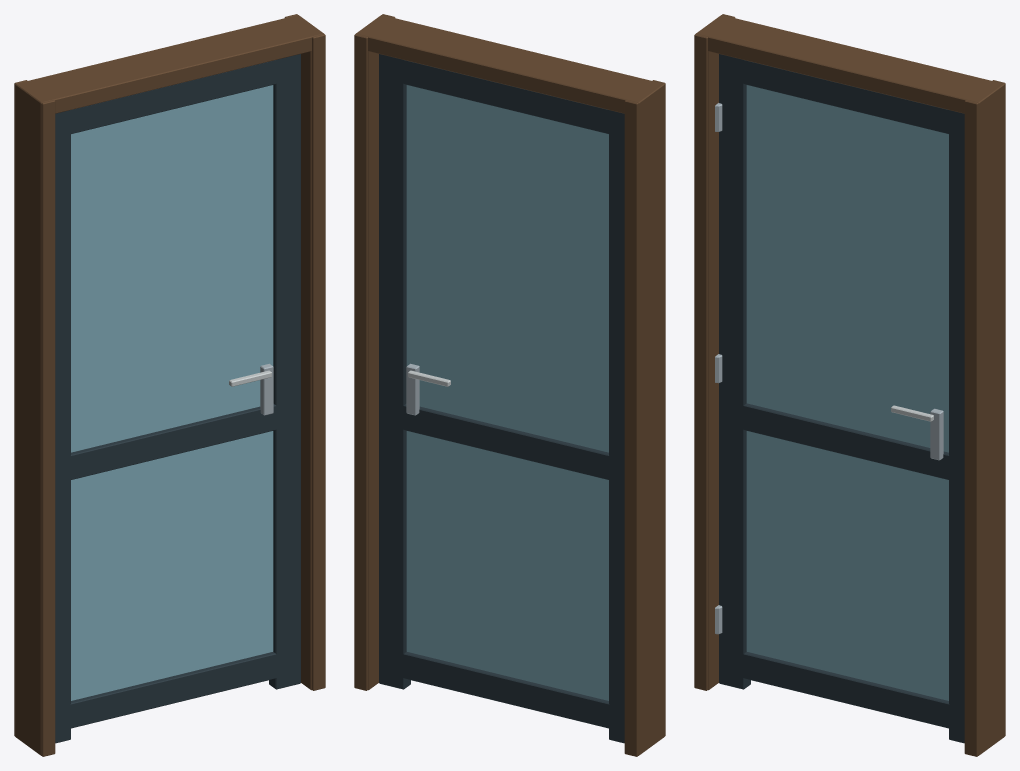
File: b21_door_glazed_entry.glb
The picture shows the model from 3 angles, left to right: view 1: azimuth 30°, elevation 25°; view 2: azimuth 150°, elevation 25°; view 3: azimuth 330°, elevation 25°; orthographic projection.
Visible parts, largest first — view 1: b21_door_glazed_entry; view 2: b21_door_glazed_entry; view 3: b21_door_glazed_entry.
Part boxes in pixels (x1,y1,x2,y2): b21_door_glazed_entry: (14, 14, 325, 756); b21_door_glazed_entry: (354, 14, 665, 756); b21_door_glazed_entry: (694, 14, 1005, 756).
Bounding box in the file's own units: 1 × 2.2 × 0.176.
